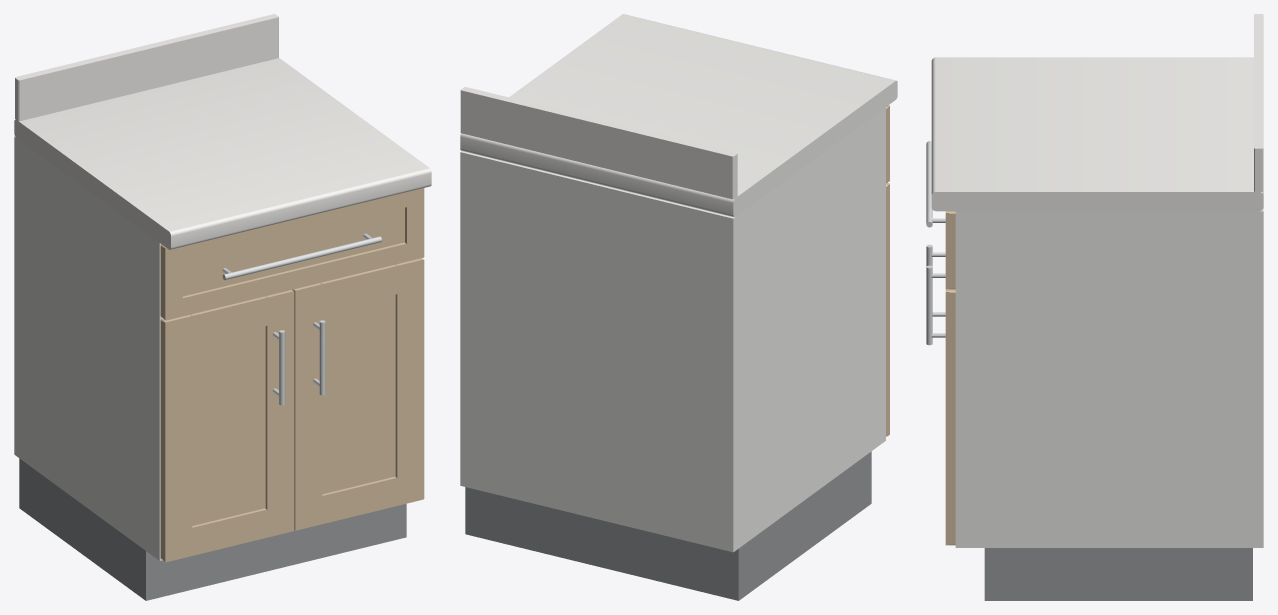
3 renders of one model, left to right at view 1: azimuth 30°, elevation 25°; view 2: azimuth 150°, elevation 25°; view 3: azimuth 270°, elevation 25°, orthographic. The views are drawn at different scales.
Visible parts, largest first — view 1: Tủ bếp dưới Dài=600; Sâu=580; view 2: Tủ bếp dưới Dài=600; Sâu=580; view 3: Tủ bếp dưới Dài=600; Sâu=580.
Part boxes in pixels (x1,y1,x2,y2): Tủ bếp dưới Dài=600; Sâu=580: (14, 14, 431, 600); Tủ bếp dưới Dài=600; Sâu=580: (460, 14, 897, 600); Tủ bếp dưới Dài=600; Sâu=580: (926, 14, 1263, 600).
Bounding box in the file's own units: 0.6 × 0.94 × 0.635.
